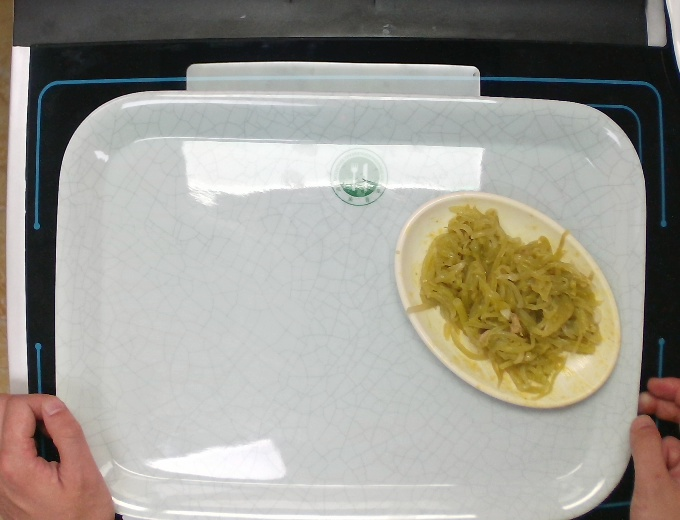JYsf-Tuo_Yuan_Wan: (392, 188, 623, 413)
